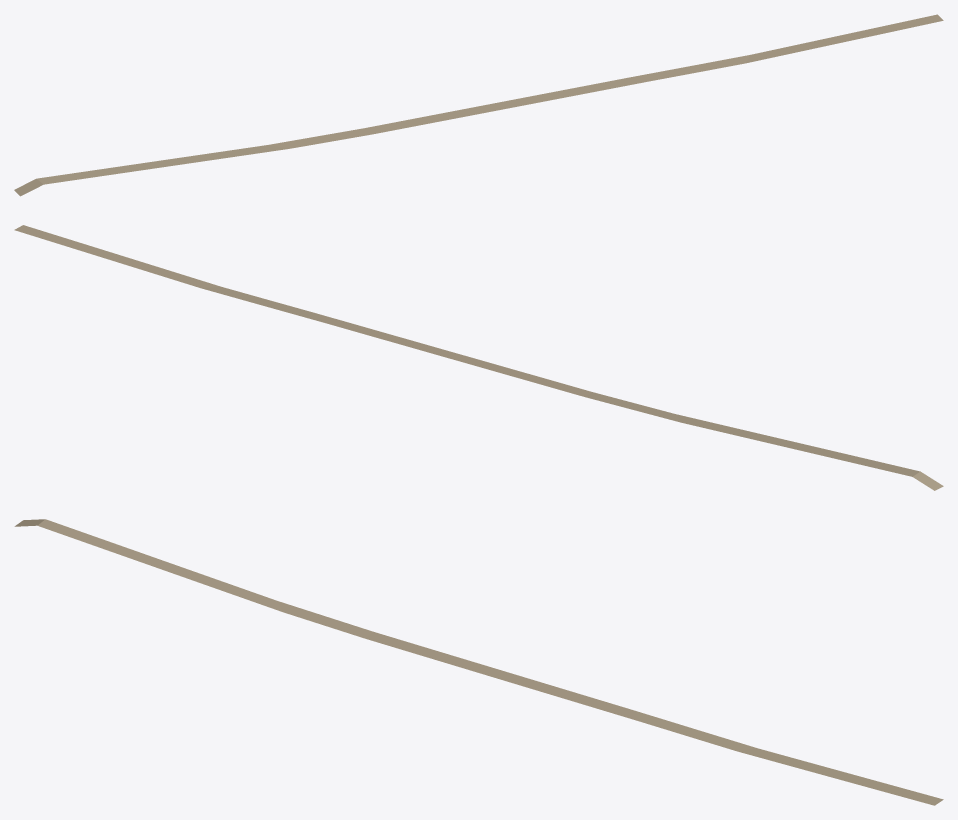
The model's file is farm_-12_-3_track.glb.
3 renders of one model, top to bottom at view 1: azimuth 30°, elevation 25°; view 2: azimuth 150°, elevation 25°; view 3: azimuth 330°, elevation 25°, orthographic. The views are drawn at different scales.
Visible parts, largest first — view 1: geometry_0; view 2: geometry_0; view 3: geometry_0.
Boxes of the visible parts, x1,y1,x2,y2 form: geometry_0: (14, 14, 943, 196); geometry_0: (14, 225, 943, 490); geometry_0: (14, 519, 943, 805).
Bounding box in the file's own units: 225 × 4.65 × 22.03.
